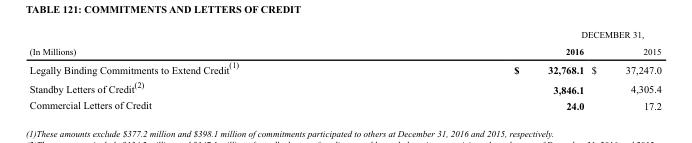table: (28, 29, 661, 111)
table column: (28, 29, 375, 111), (375, 29, 587, 111), (587, 29, 661, 111)
table column header: (28, 29, 661, 57)
table row: (28, 57, 661, 77), (28, 77, 661, 96), (28, 42, 661, 57), (28, 96, 661, 111), (28, 29, 661, 42)
table spanning cell: (28, 29, 375, 57), (375, 29, 661, 42)
